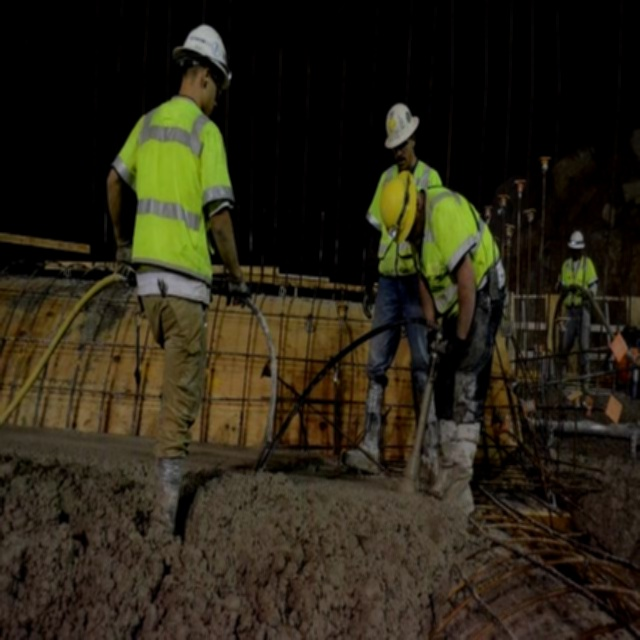Con_Casco: (174, 23, 234, 97), (379, 171, 423, 245), (384, 102, 420, 166)
Con_Chaleco: (129, 99, 221, 282), (423, 190, 497, 313)
